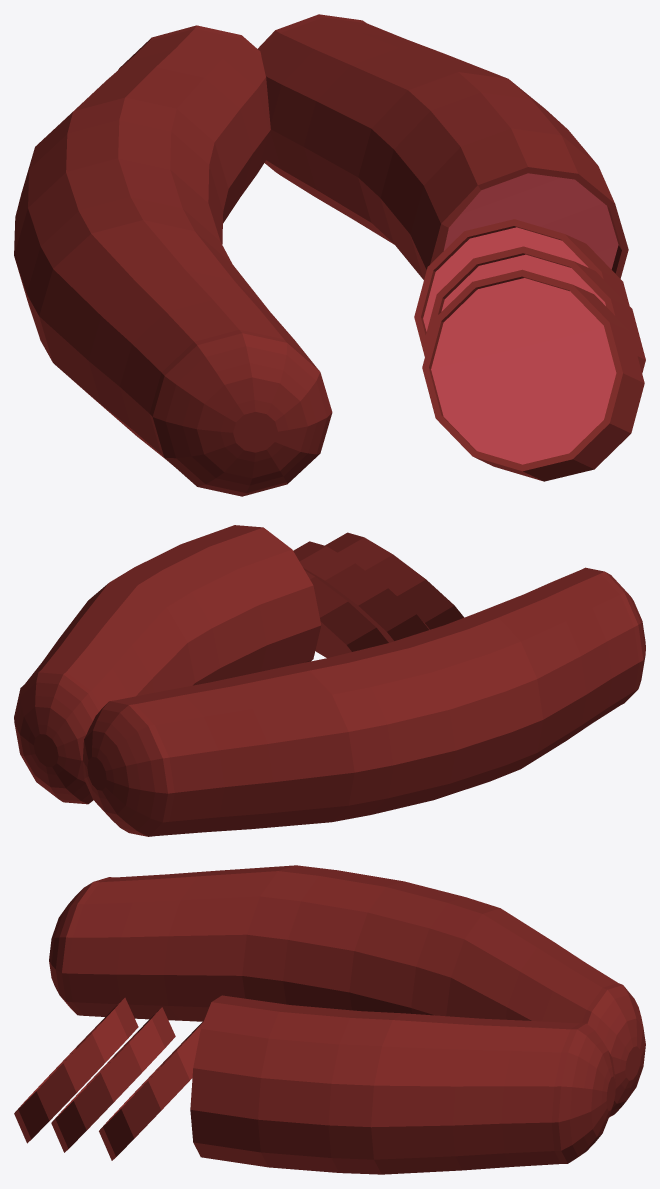
The model's file is klobasa.fbx.
3 views of the same model, one above another, from view 1: azimuth 30°, elevation 25°; view 2: azimuth 150°, elevation 25°; view 3: azimuth 270°, elevation 25° (orthographic). The views are drawn at different scales.
Parts seen in each view (by area): view 1: Cylinder.001; view 2: Cylinder.001; view 3: Cylinder.001.
Part boxes in pixels (x1,y1,x2,y2): Cylinder.001: (14, 14, 645, 496); Cylinder.001: (14, 525, 645, 836); Cylinder.001: (14, 865, 645, 1174).
Bounding box in the file's own units: 327 × 117 × 404.
